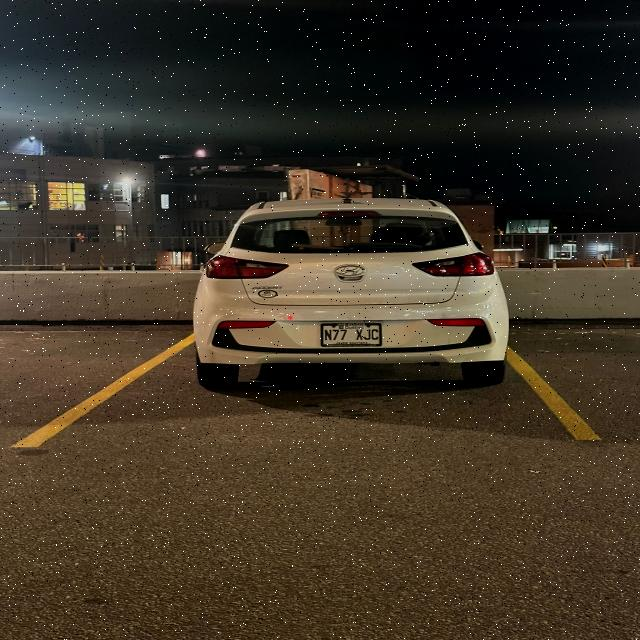plaque: (321, 323, 381, 347)
